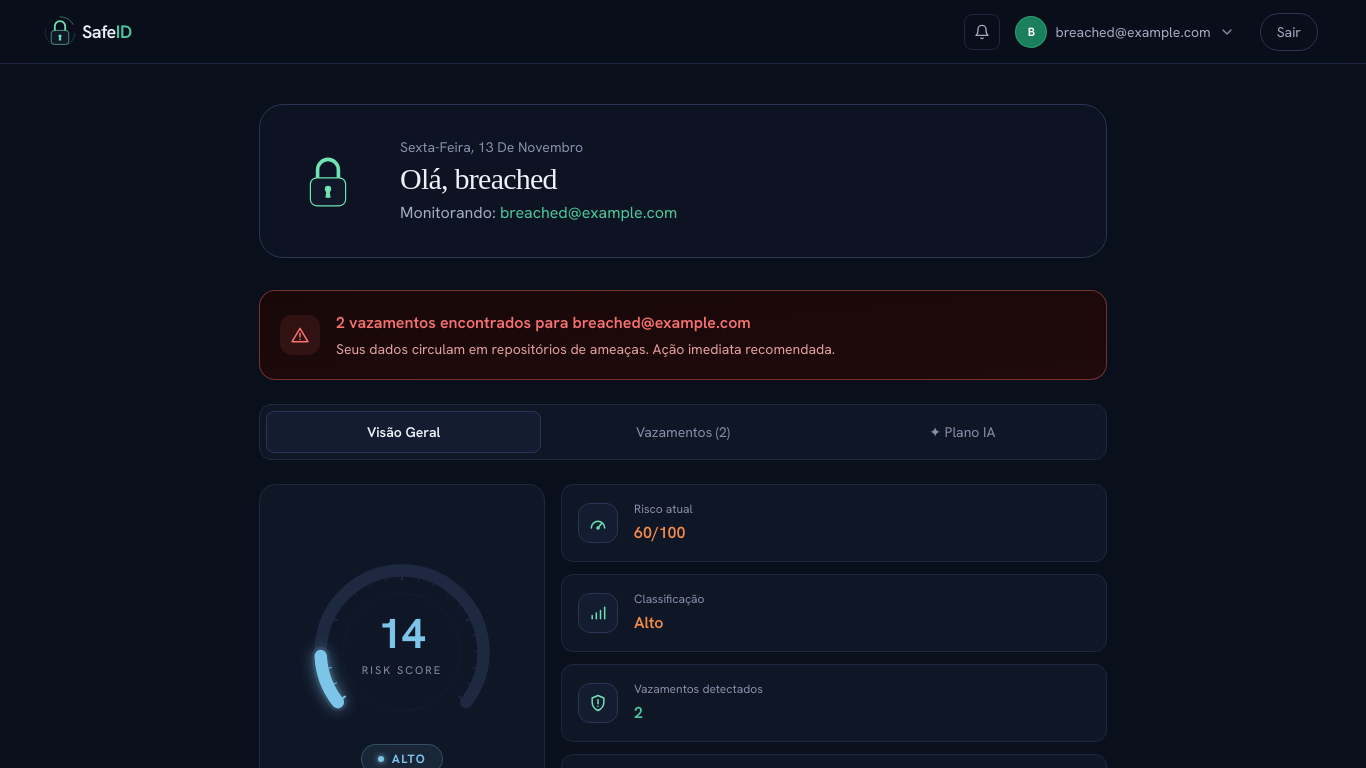
Test: menu da conta e Editar cadastro › o avatar abre o menu com o foco no primeiro item, e o Esc fecha e devolve o foco
expect the text "2 vazamentos encontrados para breached@example.com" is shown: met, box [336,312,751,333]
Click the button named "Menu da conta" at x=1130, y=32, box [1012,12,1248,50]
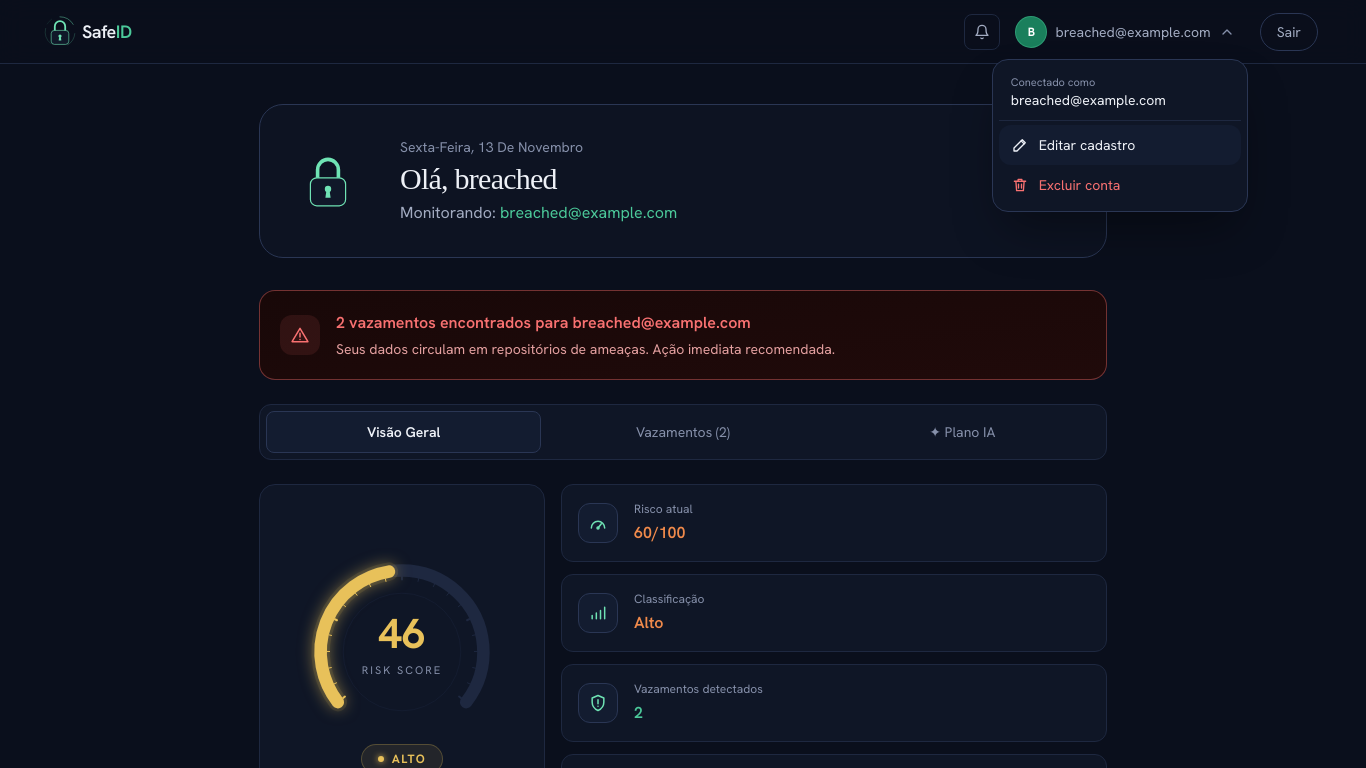
expect the button named "Menu da conta" is expanded: met, box [1012,12,1248,50]
expect the menu items read "Editar cadastro", "Excluir conta", in this order: met, box [999,125,1241,165]; [999,165,1241,205]
Press Arrowdown
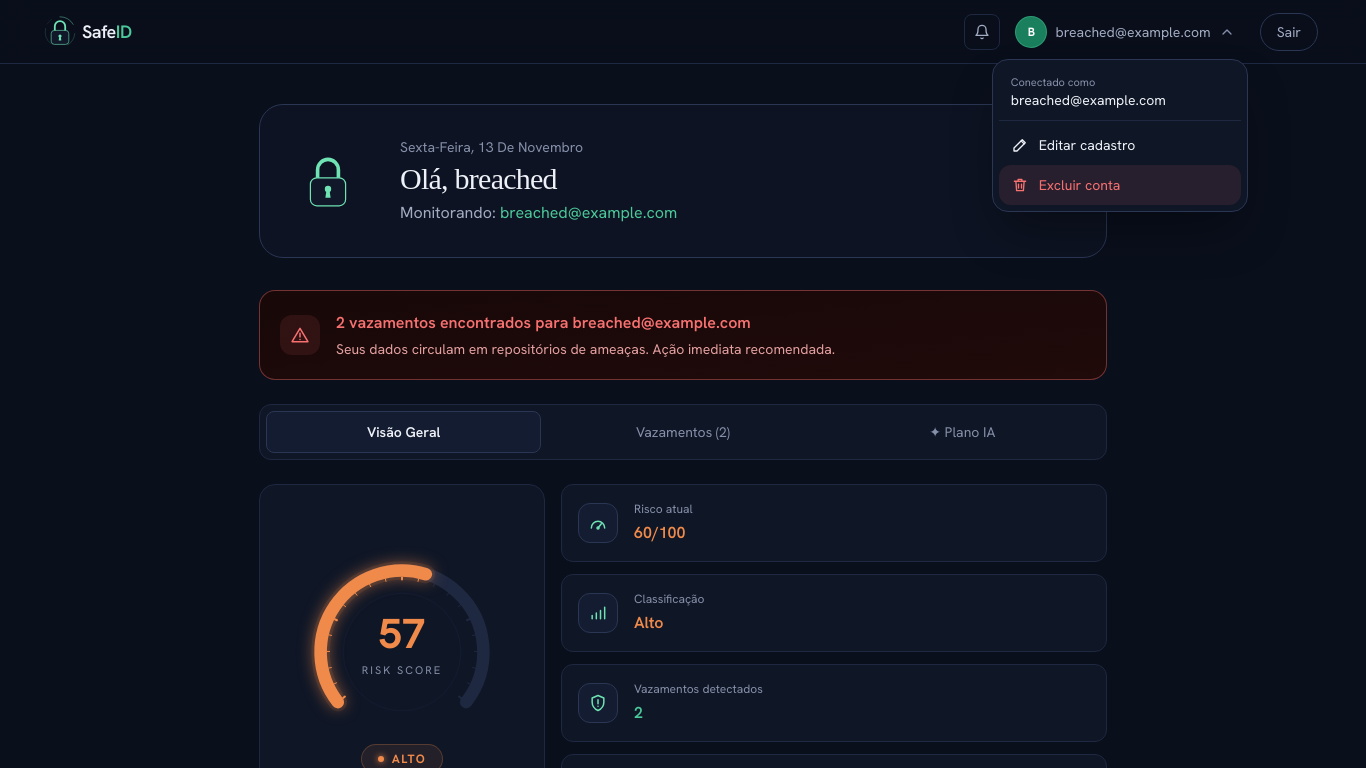
Press Escape
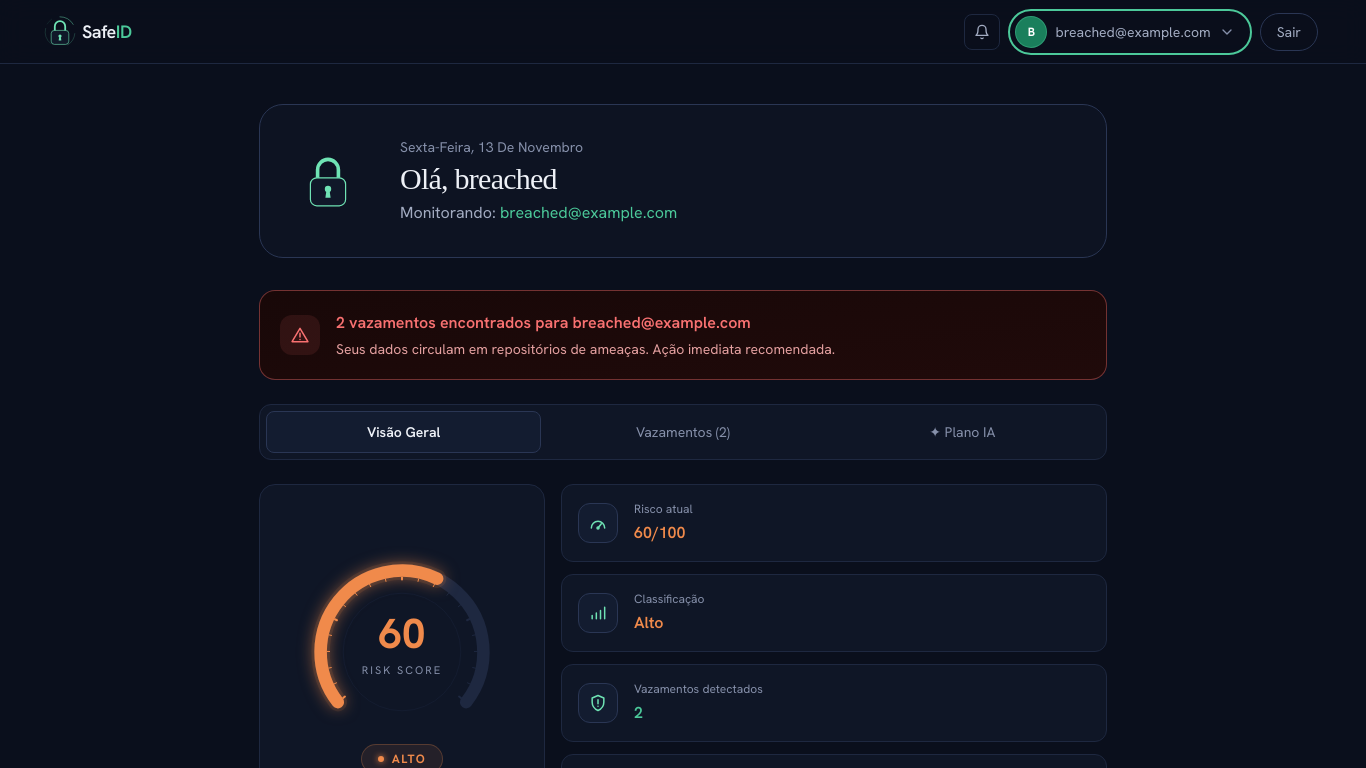
expect the menu is gone: met
